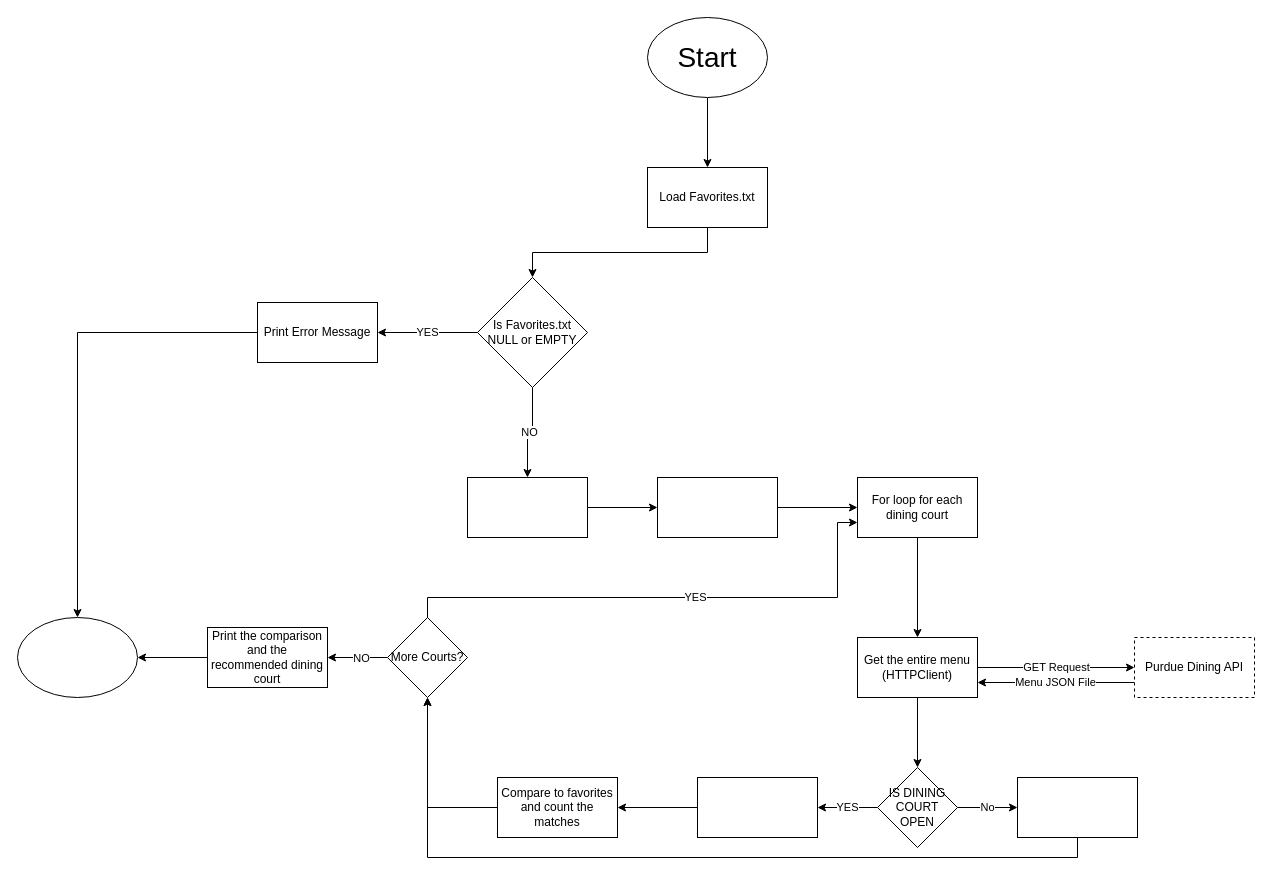
The diagram is 1272 pixels wide and 883 high, and some of its shapes have lost their labels. The shapes that lost their labels are listed below. From the top down, each one's box as (x1, y1, x2, y2) in pixels, then its label:
(466, 476, 588, 538): Take the data and convert it into a JAVA list
(656, 476, 778, 538): Get Current Date
(16, 616, 138, 698): END
(696, 776, 818, 838): Take contents of the menu and parse the data.
(1016, 776, 1138, 838): Skip
